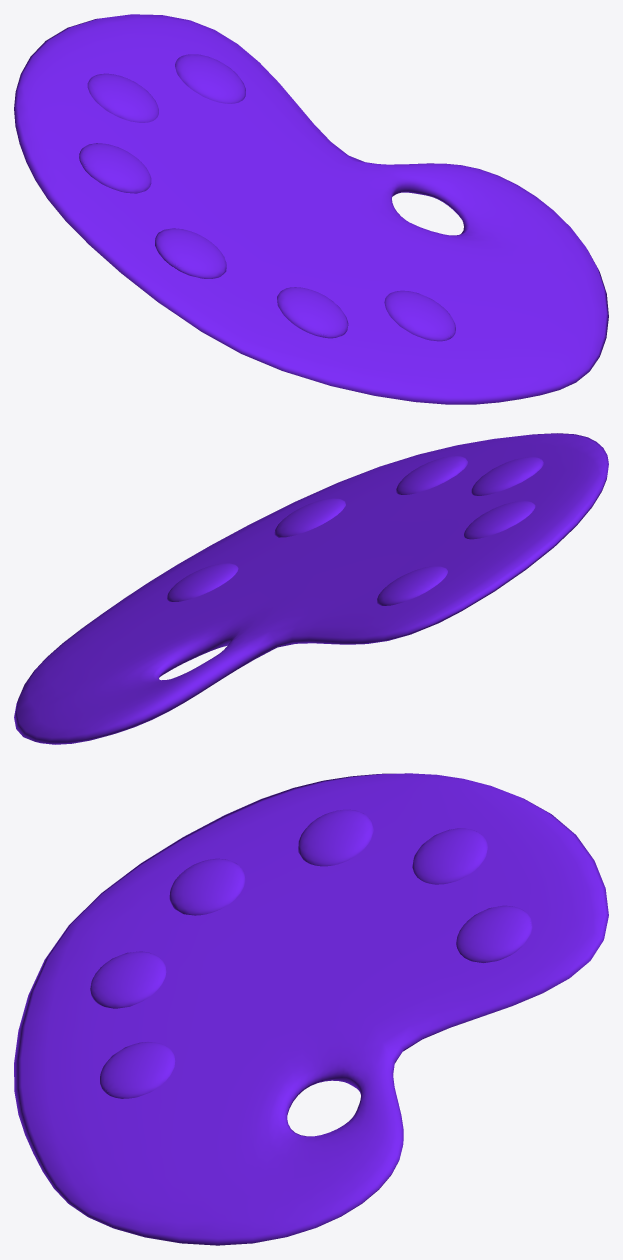
Rendered from palette.glb.
3 renders of one model, top to bottom at view 1: azimuth 30°, elevation 25°; view 2: azimuth 210°, elevation 25°; view 3: azimuth 270°, elevation 25°, orthographic.
Parts seen in each view (by area): view 1: Plane, Plane.001; view 2: Plane, Plane.001; view 3: Plane, Plane.001.
Boxes of the visible parts, left/top/right/bottom form: Plane: left=14, top=14, right=608, bottom=404; Plane.001: left=79, top=54, right=455, bottom=341; Plane: left=14, top=433, right=608, bottom=744; Plane.001: left=167, top=456, right=543, bottom=605; Plane: left=14, top=773, right=608, bottom=1245; Plane.001: left=90, top=809, right=532, bottom=1098.
Bounding box in the file's own units: 1.63 × 0.7158 × 1.54.
